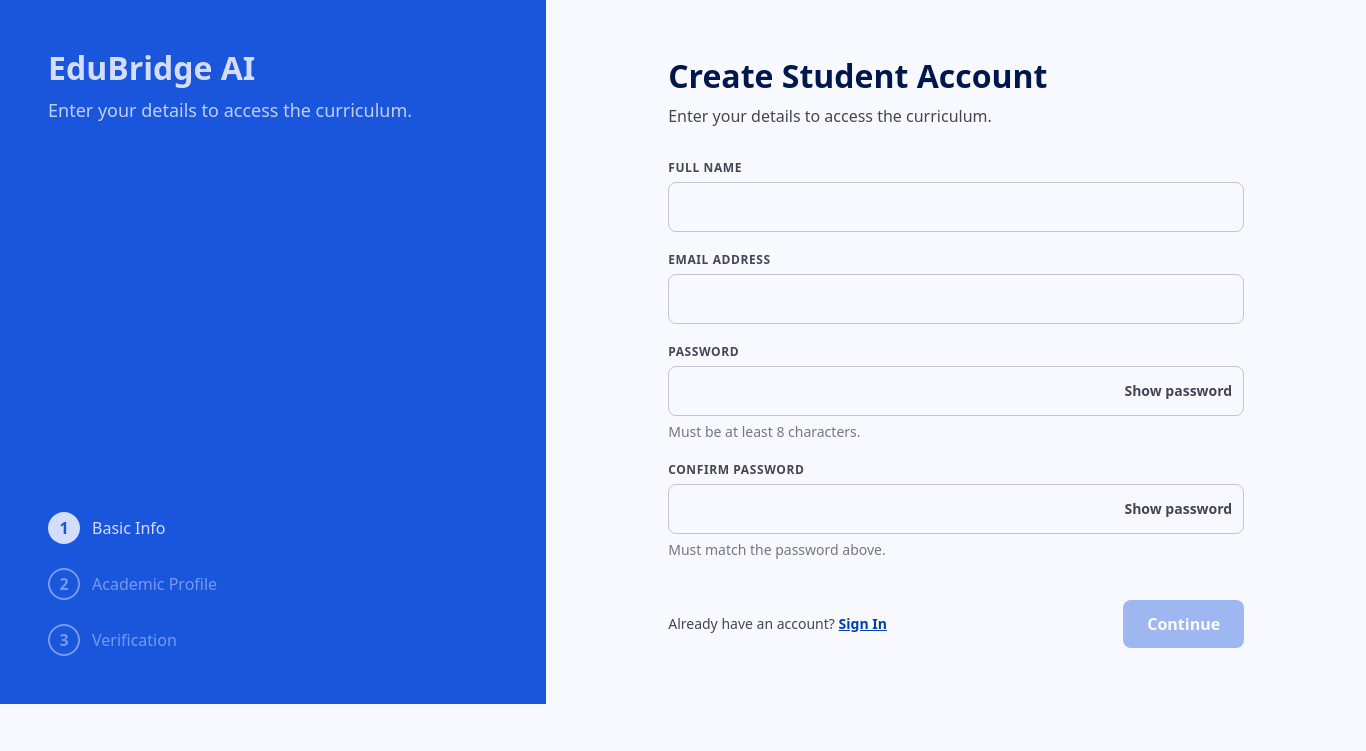
it: class to group dependency › asks for a class before showing any group
This screenshot has width=1366, height=751.
Type "Aisha Khan" into the field labelled "Full Name" at (956, 207), box [668,182,1244,232]
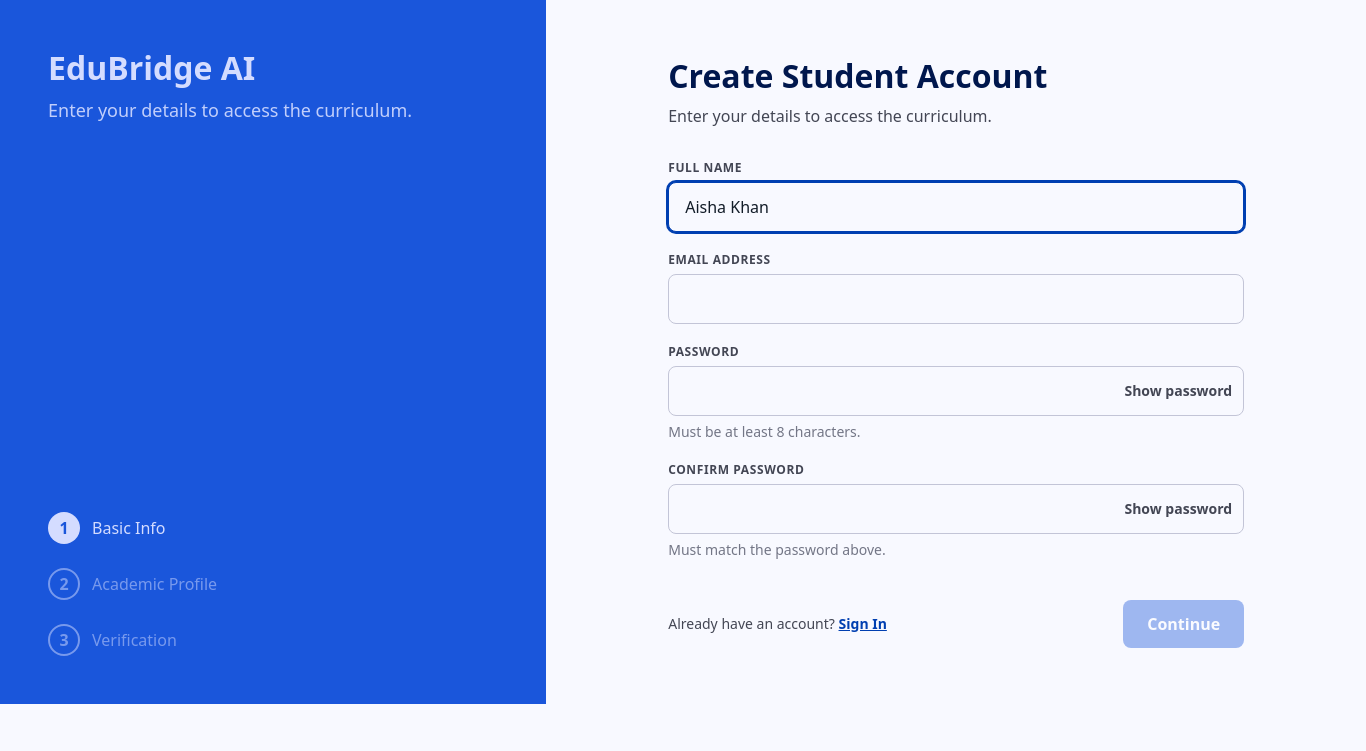
Type "aisha@example.com" into the field labelled "Email Address" at (956, 299), box [668,274,1244,324]
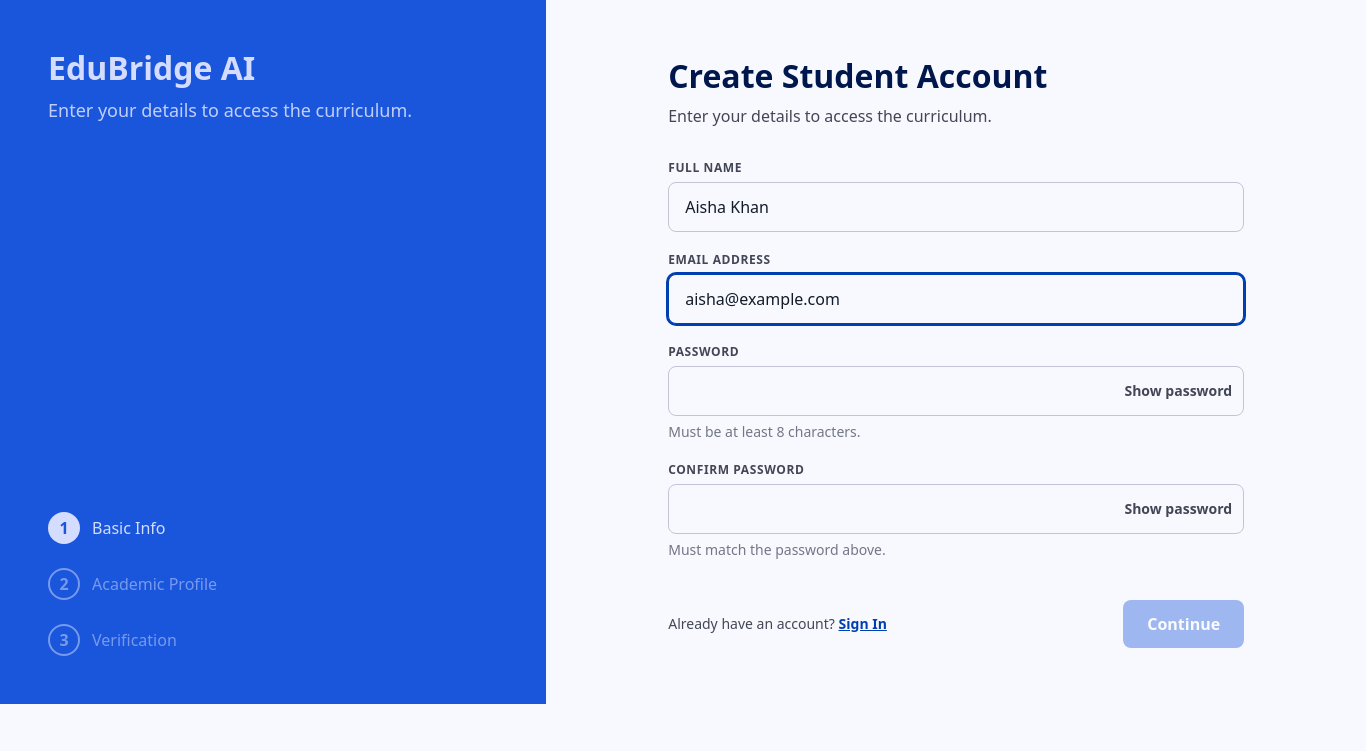
Type "Password123" into the password field labelled "Password" at (956, 391), box [668,366,1244,416]
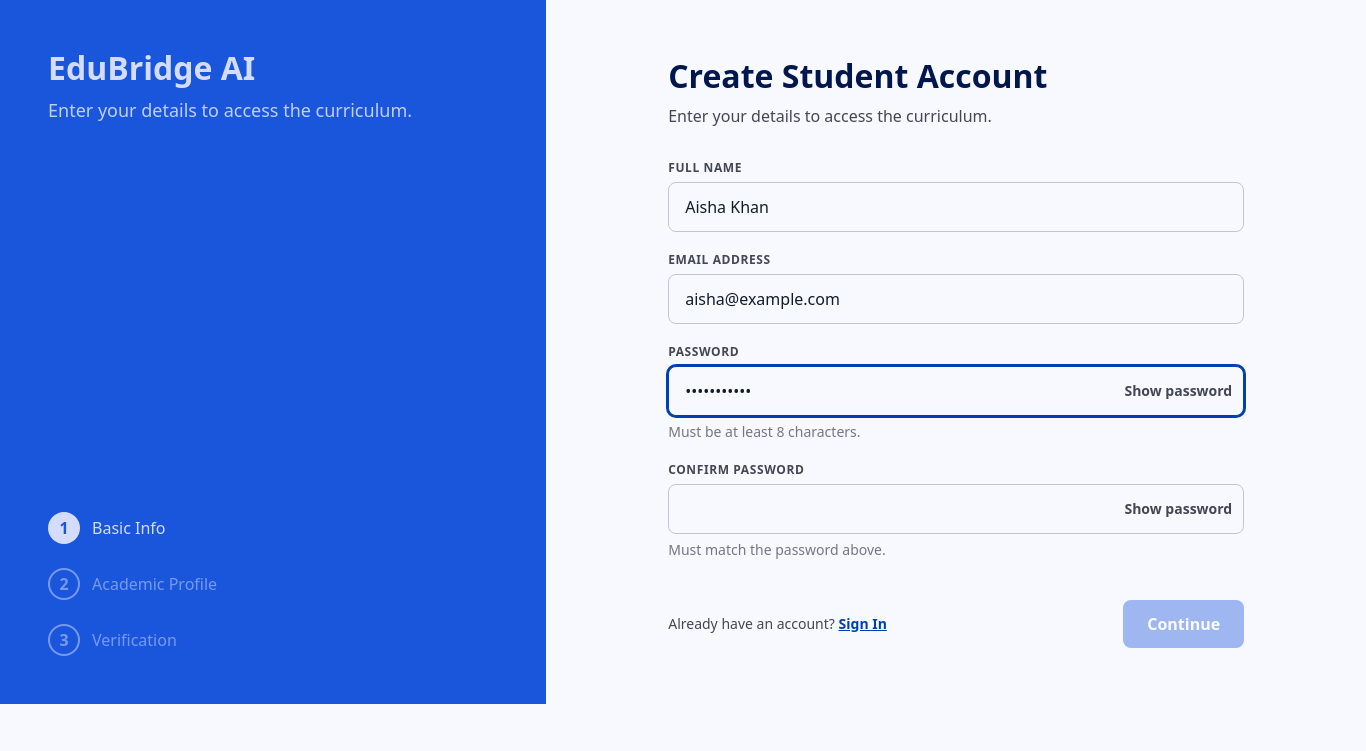
Type "Password123" into the password field labelled "Confirm Password" at (956, 509), box [668,484,1244,534]
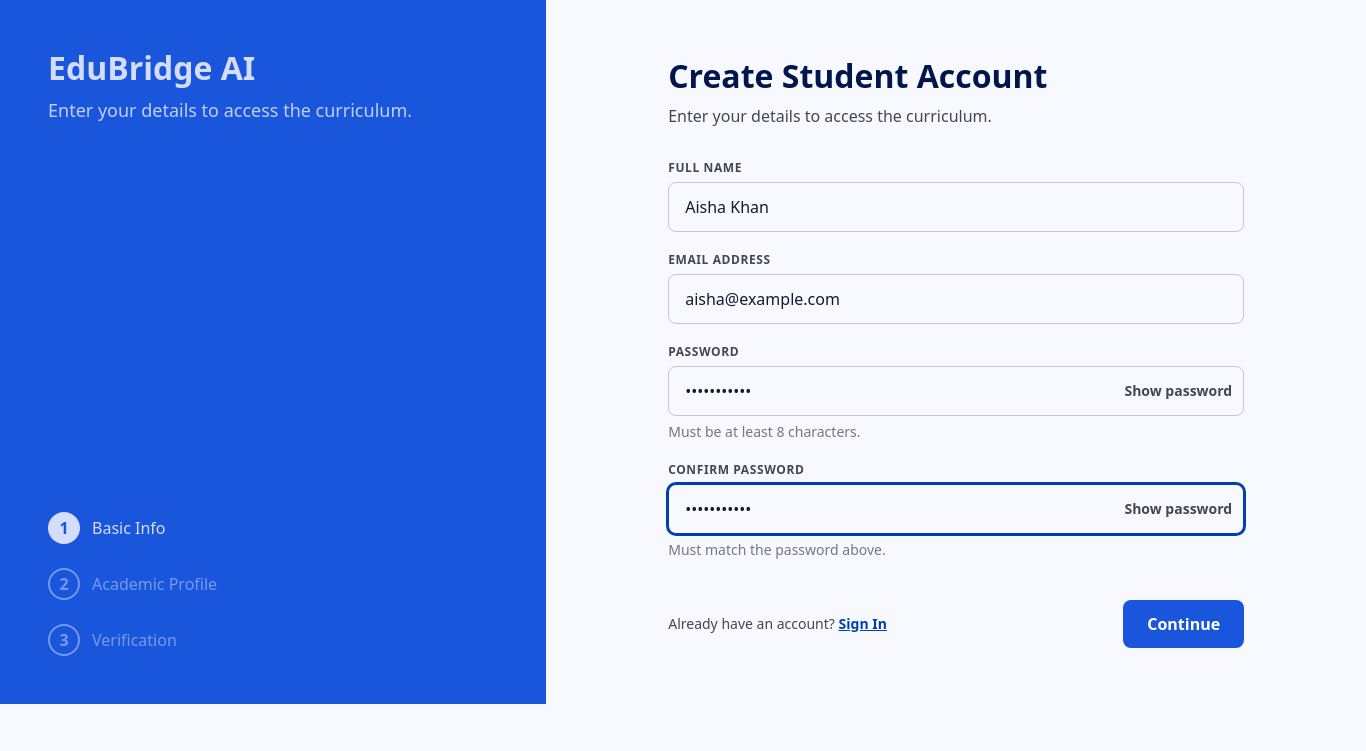
Click the button "Continue" at (1184, 624), box [1123,600,1244,648]
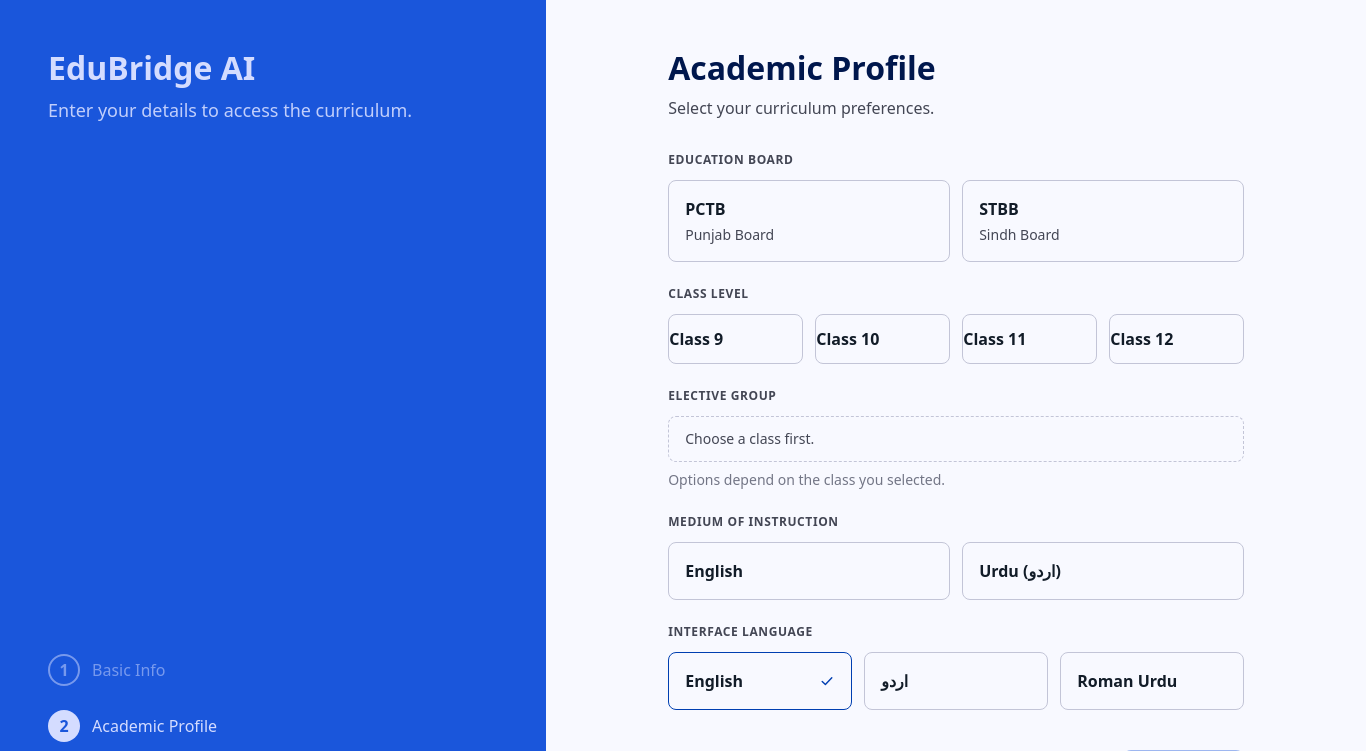
Expected: the text "Choose a class first." is shown, [668,416,1244,462]
